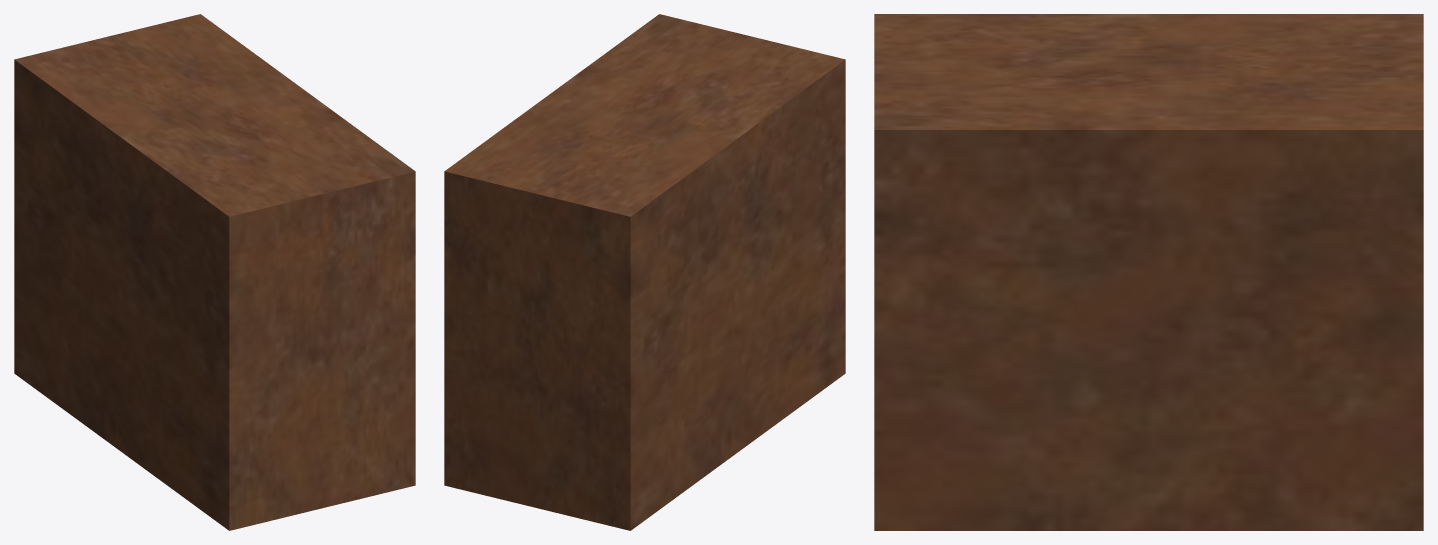
The model's file is test_multi_boxTextured.glb.
3 renders of one model, left to right at view 1: azimuth 30°, elevation 25°; view 2: azimuth 150°, elevation 25°; view 3: azimuth 270°, elevation 25°, orthographic. The views are drawn at different scales.
Parts seen in each view (by area): view 1: Phys BOX.002; view 2: Phys BOX.002; view 3: Phys BOX.002.
Part boxes in pixels (box(x1,y1,x2,y2)): Phys BOX.002: box(14, 14, 415, 530); Phys BOX.002: box(444, 14, 845, 530); Phys BOX.002: box(874, 14, 1423, 530).
Size of what is drawn, in the model's own units: 1 by 1.61 by 2.
1 material, 1 textured.
